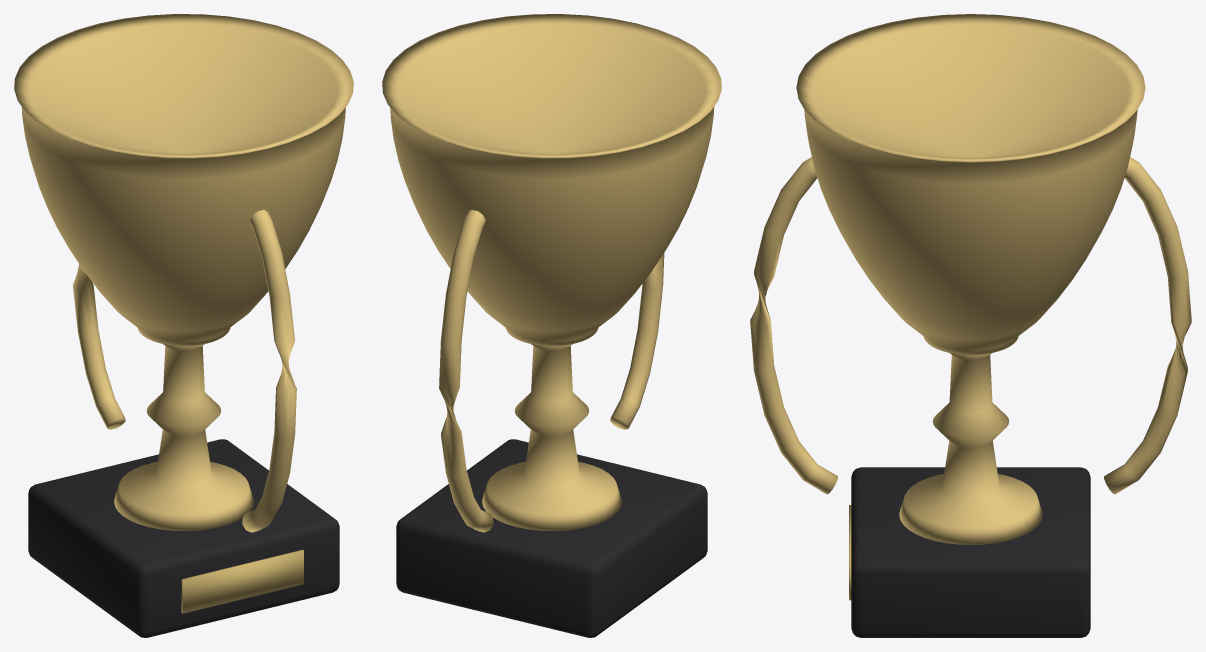
File: SM_Trophy.glb
3 views of the same model, side by side, from view 1: azimuth 30°, elevation 25°; view 2: azimuth 150°, elevation 25°; view 3: azimuth 270°, elevation 25° (orthographic). The views are drawn at different scales.
Visible parts, largest first — view 1: SM_Trophy; view 2: SM_Trophy; view 3: SM_Trophy.
Part boxes in pixels (x1,y1,x2,y2): SM_Trophy: (14,14,353,637); SM_Trophy: (382,14,721,637); SM_Trophy: (750,14,1191,637).
Bounding box in the file's own units: 0.146 × 0.232 × 0.1846.
